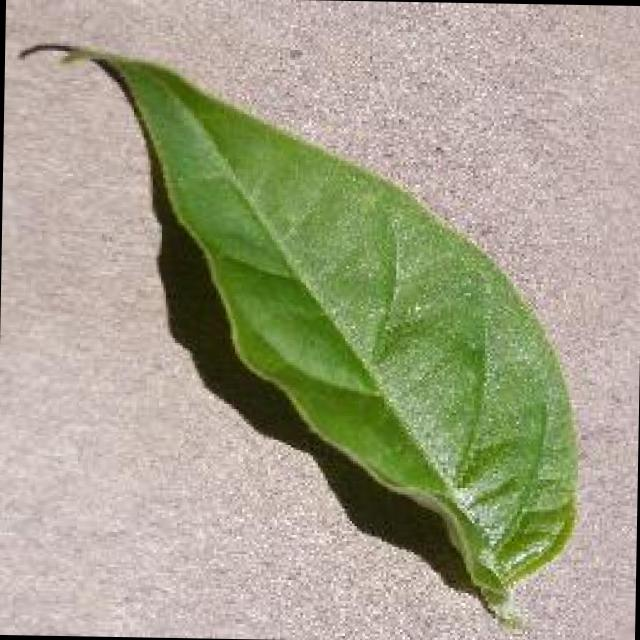Chilli_Healthy: (7, 37, 587, 632)
